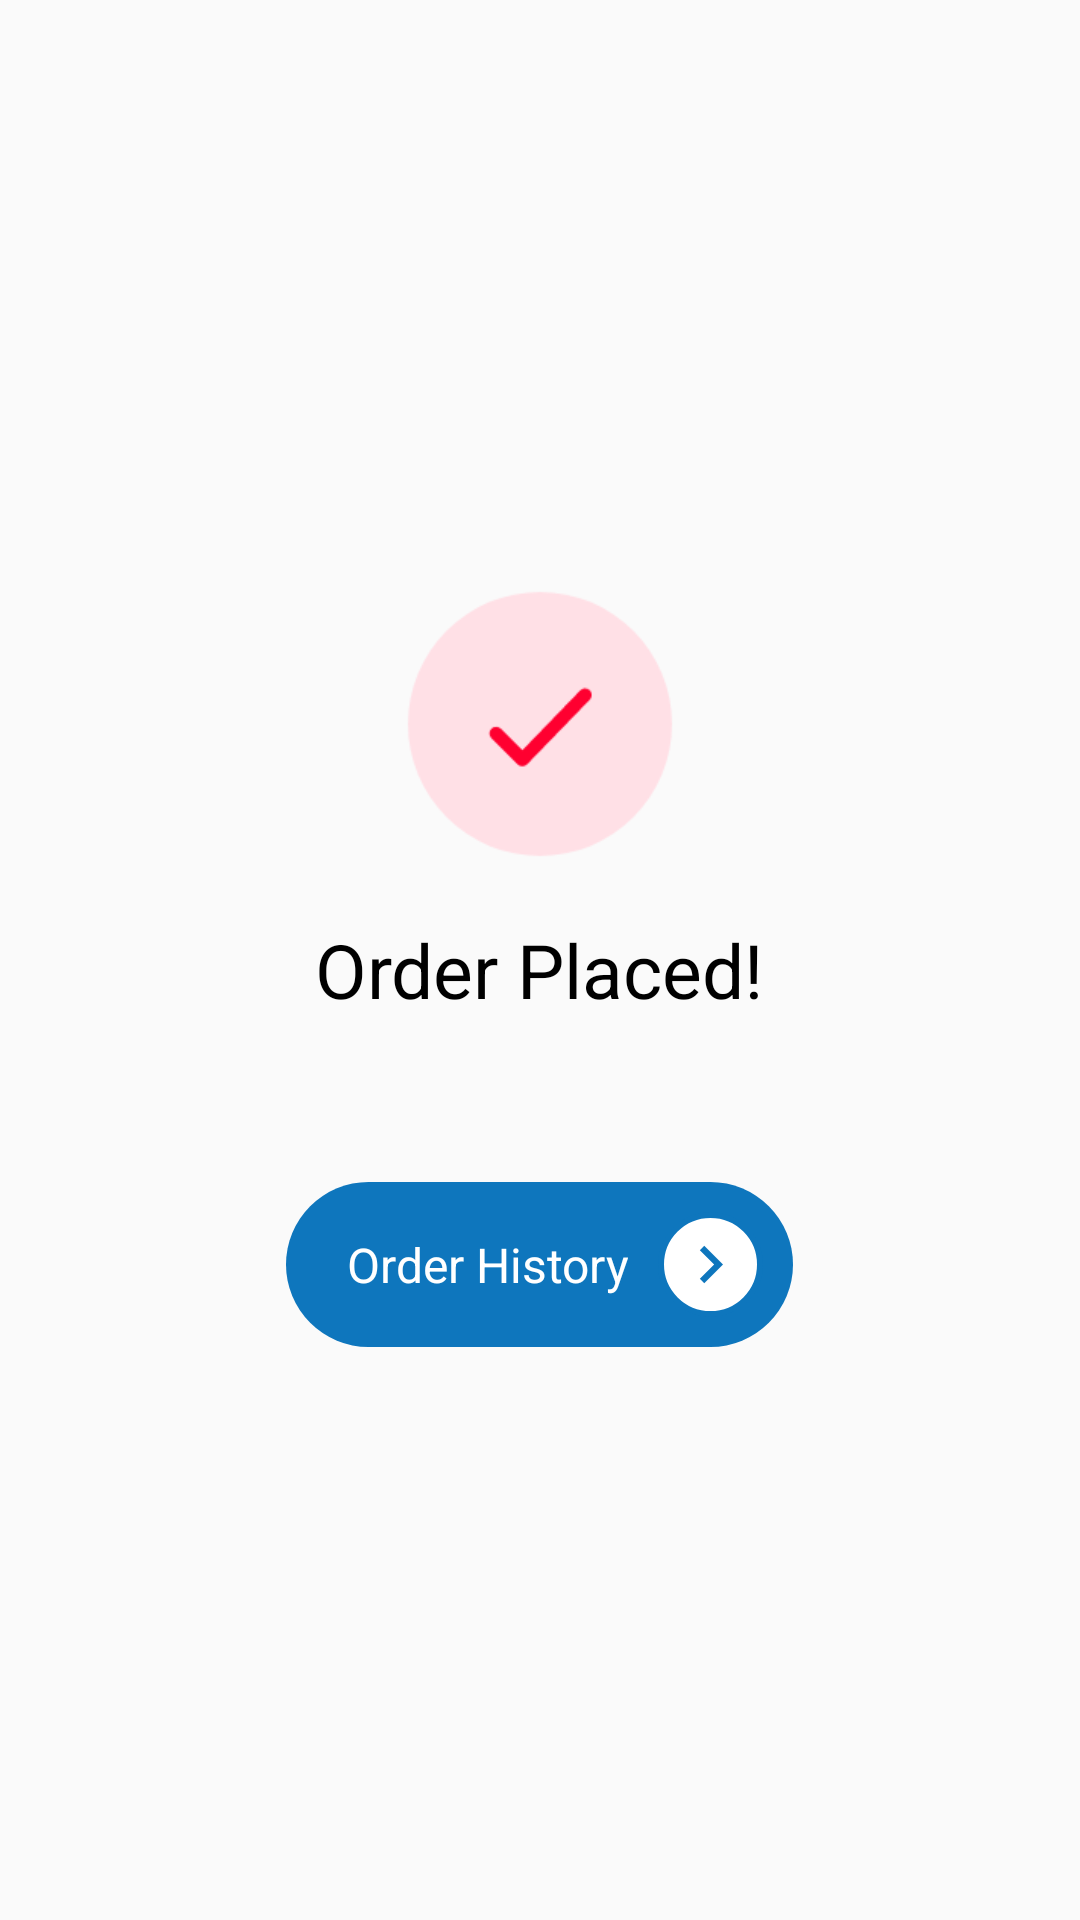

Where icons sit on this 1080px×1920px app screen, as (x1, y1, x2, y2):
right: (664, 1218, 757, 1311)
success: (409, 593, 671, 855)
